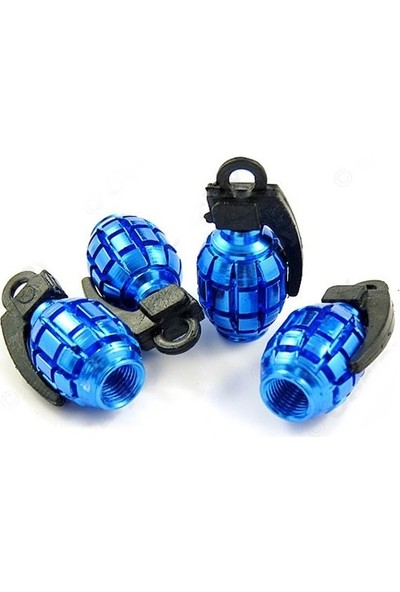e1: (2, 271, 145, 417), (262, 282, 395, 420), (198, 157, 299, 338), (87, 214, 202, 357)
